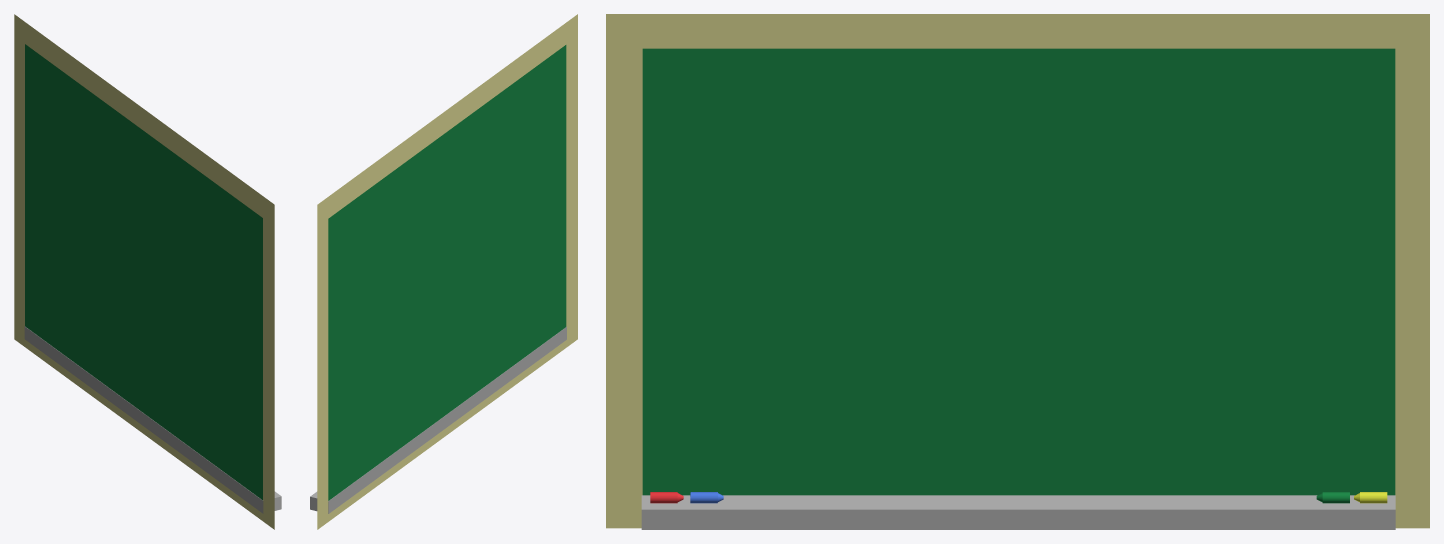
Rendered from LousaDeGiz.fbx.
3 renders of one model, left to right at view 1: azimuth 30°, elevation 25°; view 2: azimuth 150°, elevation 25°; view 3: azimuth 270°, elevation 25°, orthographic. The views are drawn at different scales.
Parts seen in each view (by area): view 1: Lousa; view 2: Lousa; view 3: Lousa.
Boxes of the visible parts, bbox=[...] form: Lousa: bbox=[14, 14, 281, 529]; Lousa: bbox=[310, 14, 577, 529]; Lousa: bbox=[606, 14, 1429, 529].
Size of the model in its own units: 22.39 by 375 by 544.
